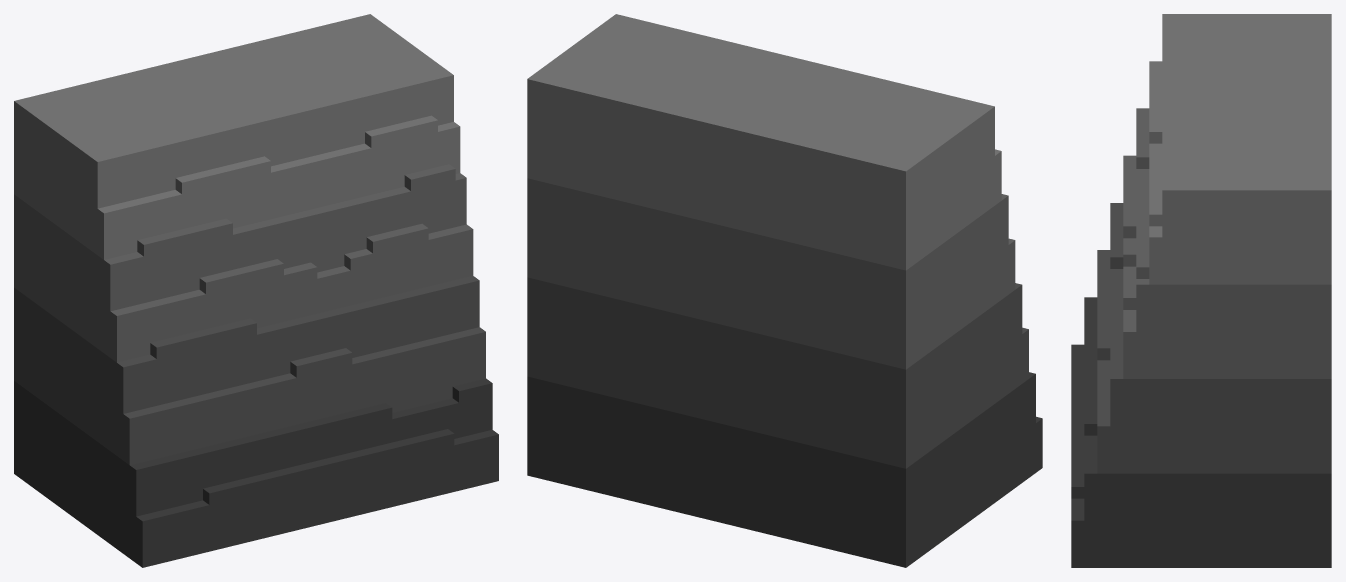
File: mountain-side-1.gltf
3 views of the same model, side by side, from view 1: azimuth 30°, elevation 25°; view 2: azimuth 150°, elevation 25°; view 3: azimuth 270°, elevation 25° (orthographic). The views are drawn at different scales.
Parts seen in each view (by area): view 1: mountain-side-1; view 2: mountain-side-1; view 3: mountain-side-1.
Boxes of the visible parts, x1=… form: mountain-side-1: x1=14, y1=14, x2=498, y2=567; mountain-side-1: x1=527, y1=14, x2=1042, y2=567; mountain-side-1: x1=1071, y1=14, x2=1331, y2=567.
Size of the model in its own units: 3.2 by 3.2 by 2.
1 material, 1 textured.
